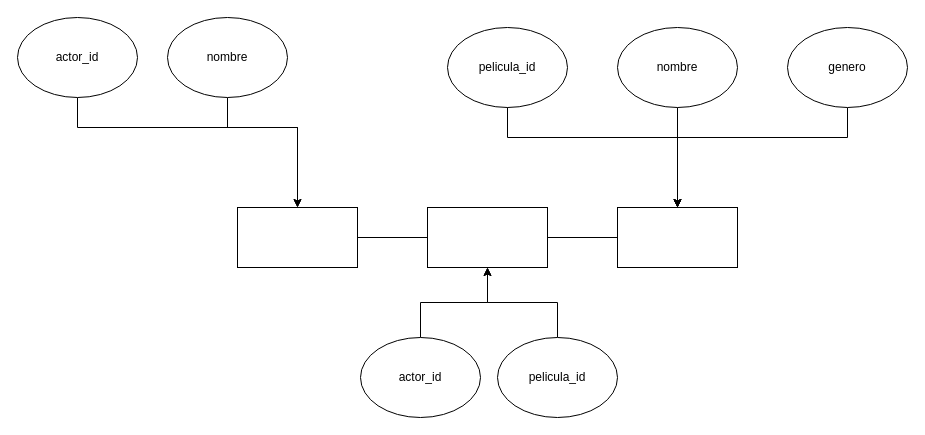
The diagram is 925 pixels wide and 435 high, and some of its shapes have lost their labels. The shapes that lost their labels are listed below. From the top down, each one's centre as x and y in pixels, then its label:
At (297,237): "Actor".
At (487,237): "ActorPelicula".
At (677,237): "Pelicula".
